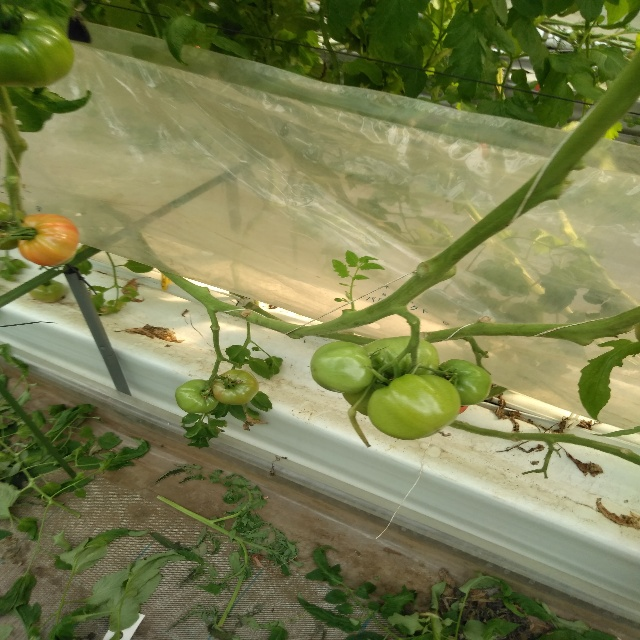b_green: (343, 335, 440, 415), (0, 3, 75, 87), (367, 375, 461, 440), (310, 341, 374, 394), (434, 359, 492, 406), (212, 369, 259, 405), (175, 380, 218, 414), (0, 201, 28, 251)
b_half_ripened: (15, 213, 80, 266)
